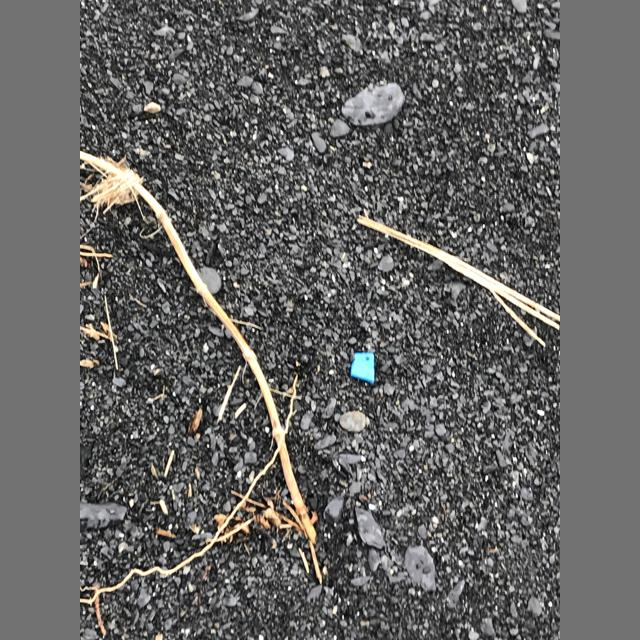litter: (349, 353, 374, 383)
